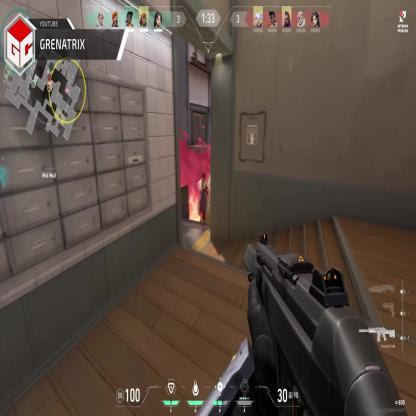enemy: (198, 171, 208, 228)
enemy_head: (202, 172, 206, 184)
